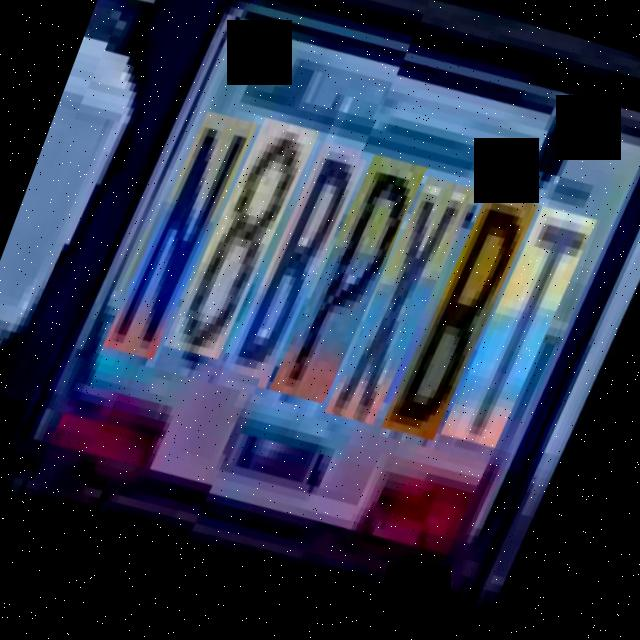8: (168, 115, 322, 377)
B: (389, 188, 542, 456), (227, 141, 372, 400)
N: (107, 107, 259, 375)
P: (276, 147, 432, 417)
T: (448, 204, 600, 465)
X: (332, 171, 484, 440)
